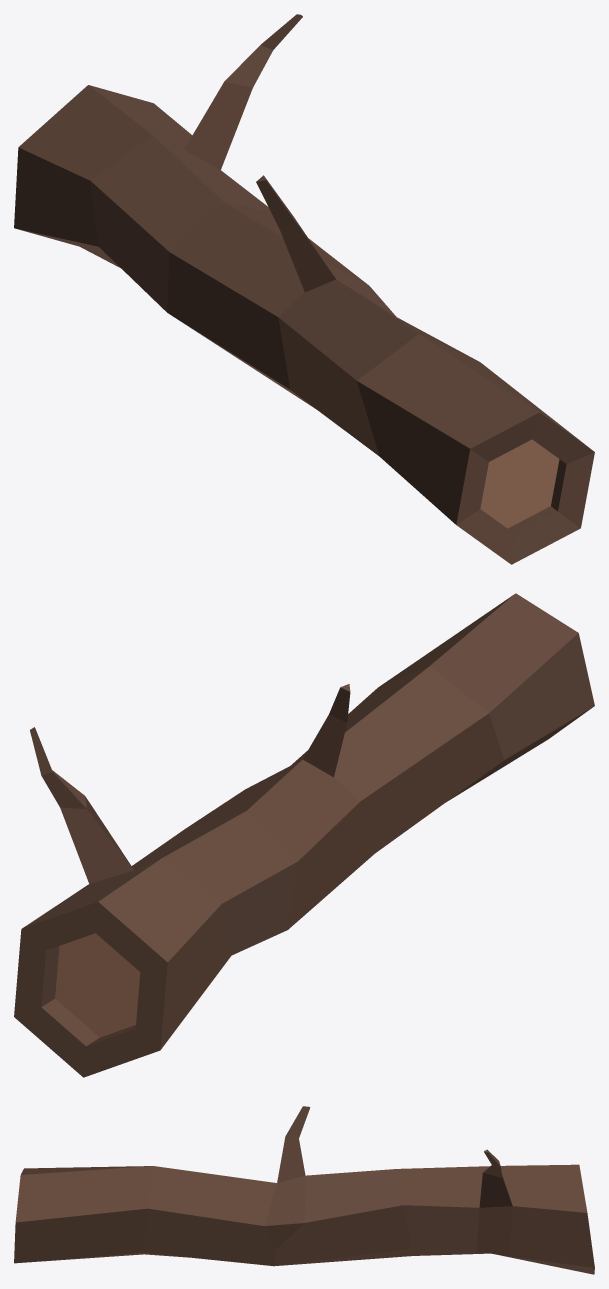
File: Tree_Log_1.fbx
3 renders of one model, top to bottom at view 1: azimuth 30°, elevation 25°; view 2: azimuth 150°, elevation 25°; view 3: azimuth 270°, elevation 25°, orthographic. The views are drawn at different scales.
Parts seen in each view (by area): view 1: Tree_Log_1; view 2: Tree_Log_1; view 3: Tree_Log_1.
Part boxes in pixels (left/top/right/bottom): Tree_Log_1: left=14, top=14, right=594, bottom=564; Tree_Log_1: left=14, top=593, right=594, bottom=1077; Tree_Log_1: left=14, top=1106, right=594, bottom=1274.
Size of the model in its own units: 72.85 by 86.07 by 272.
